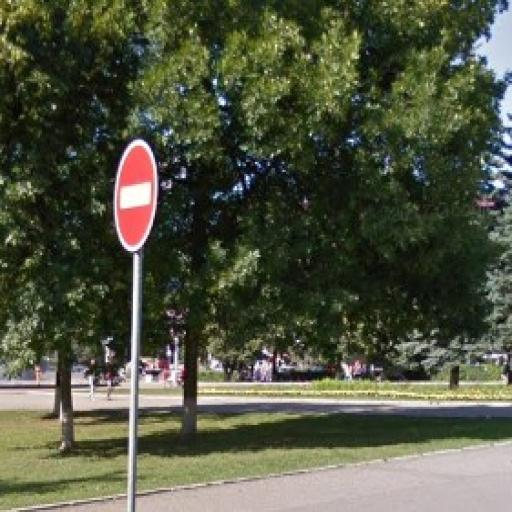traffic_sign: (110, 137, 163, 256)
